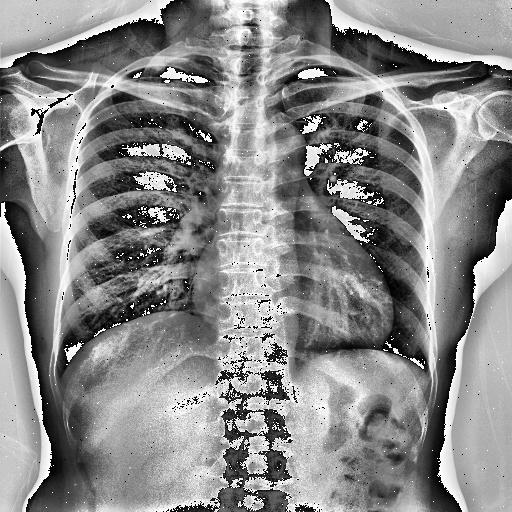0- Aortic enlargement: (250, 120, 309, 168)
11- Pleural thickening: (268, 62, 334, 76), (152, 54, 214, 66)
3- Cardiomegaly: (192, 252, 396, 347), (190, 268, 395, 350), (192, 274, 396, 352)
